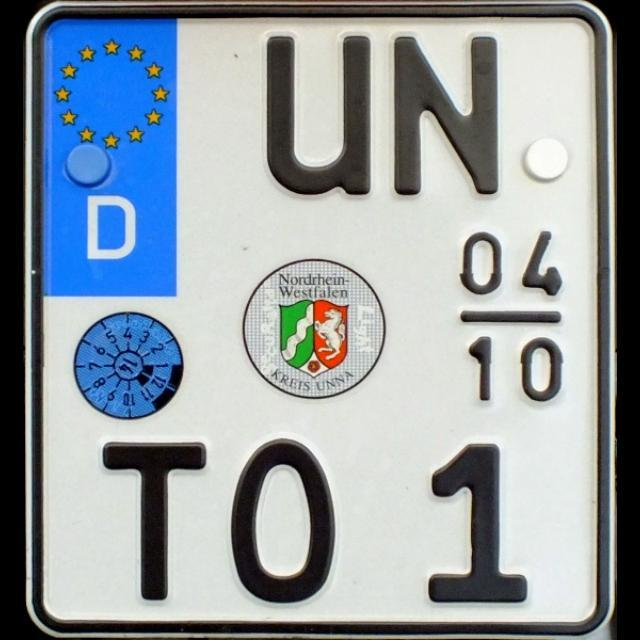license-plates: (25, 1, 616, 640)
